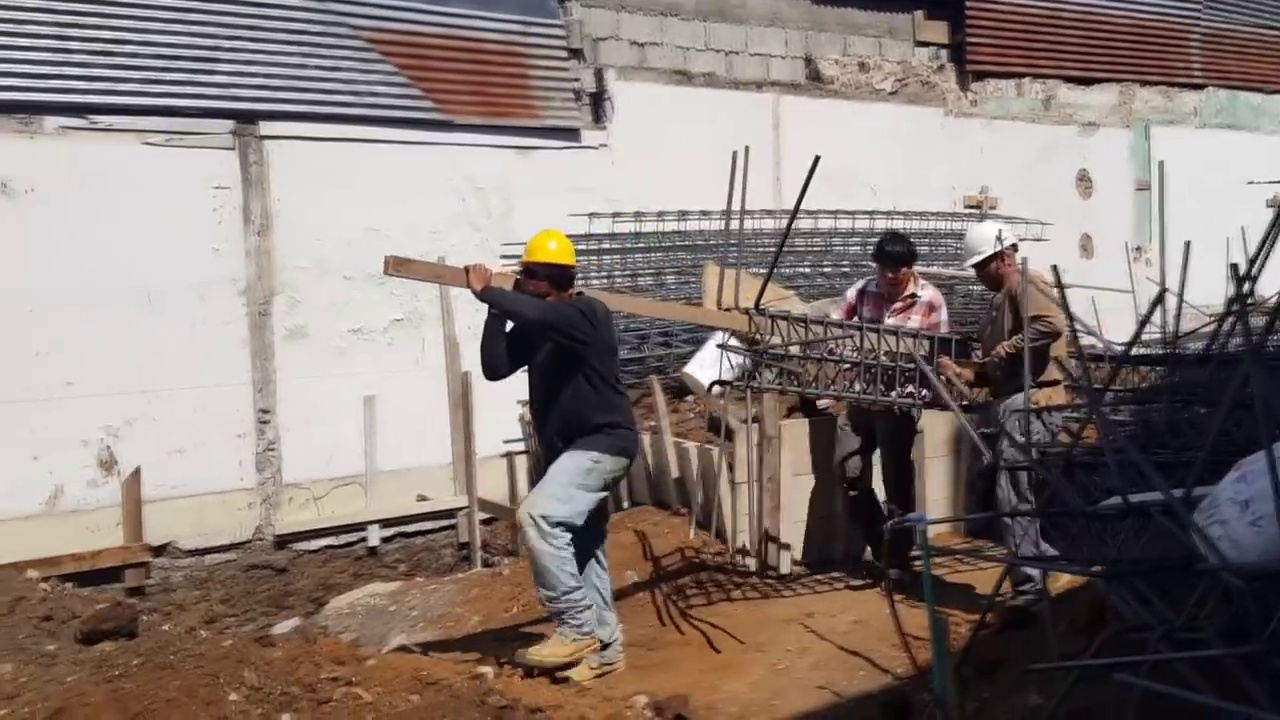helmet: (962, 220, 1019, 270), (517, 231, 581, 273), (929, 278, 969, 315)
helmet-off: (864, 233, 925, 300)
helmet-on: (962, 218, 1027, 301), (513, 231, 582, 309)
person: (459, 239, 644, 680), (831, 227, 951, 569), (962, 220, 1073, 567)
